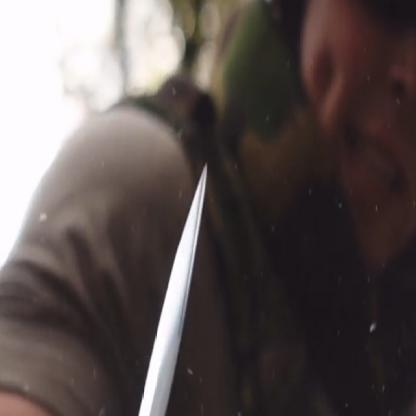knife: (80, 143, 218, 415)
